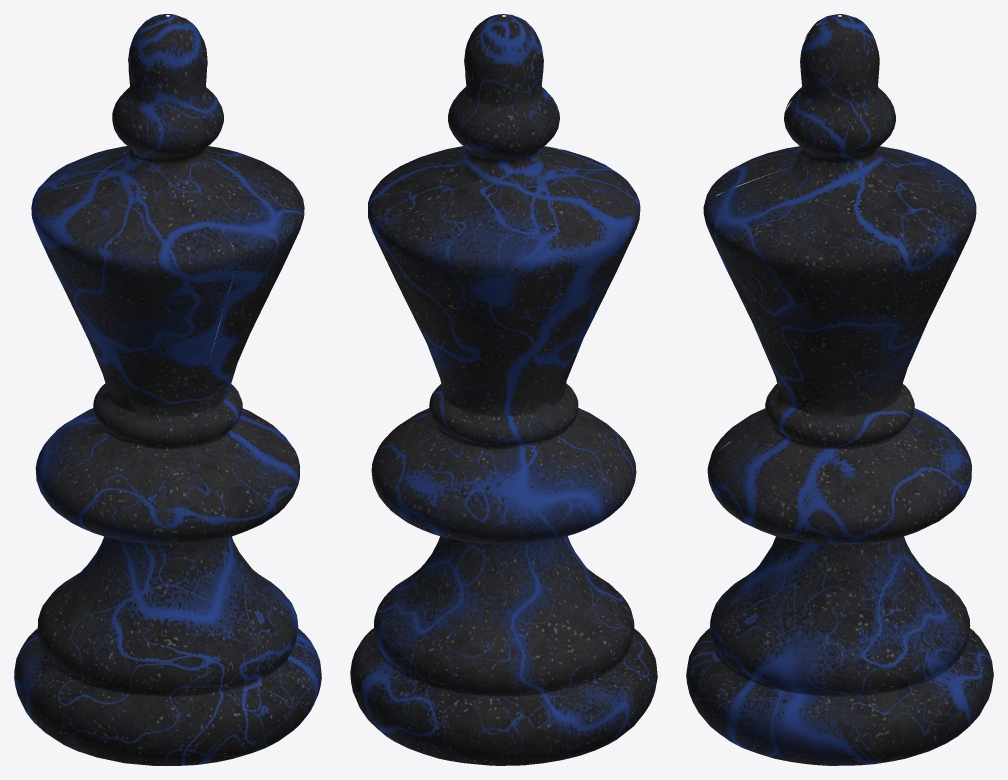
Rendered from king-black.glb.
3 renders of one model, left to right at view 1: azimuth 30°, elevation 25°; view 2: azimuth 150°, elevation 25°; view 3: azimuth 270°, elevation 25°, orthographic.
Visible parts, largest first — view 1: Cobalt Vein black king; view 2: Cobalt Vein black king; view 3: Cobalt Vein black king.
Part boxes in pixels (x1,y1,x2,y2): Cobalt Vein black king: (14, 14, 321, 765); Cobalt Vein black king: (350, 14, 657, 765); Cobalt Vein black king: (686, 14, 993, 765).
Size of the model in its own units: 0.6601 by 1.65 by 0.6611.
1 material, 1 textured.
